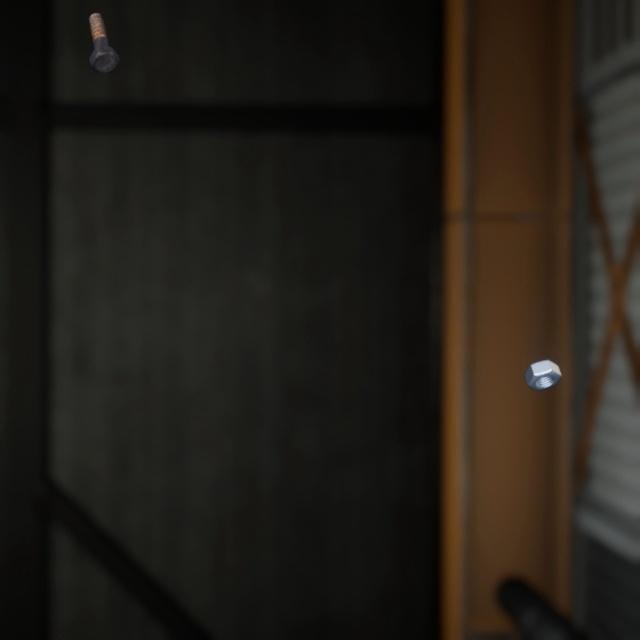bolt: (84, 0, 124, 68)
nut: (519, 336, 566, 376)
